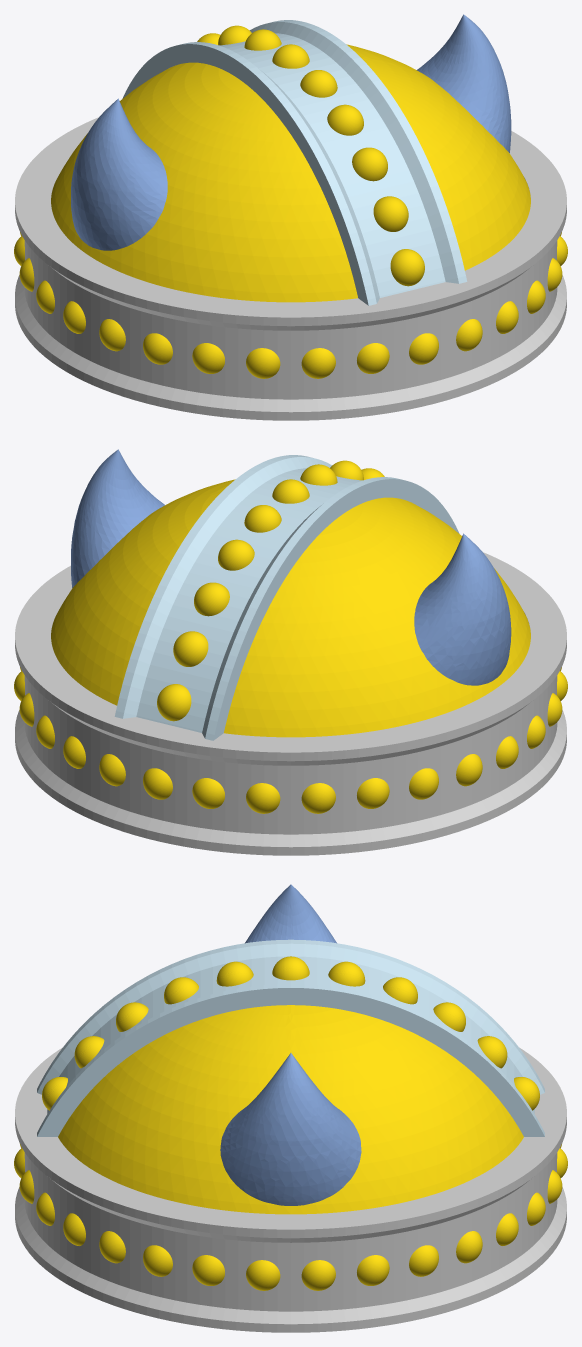
The model's file is Hat_Viking.glb.
3 renders of one model, top to bottom at view 1: azimuth 30°, elevation 25°; view 2: azimuth 150°, elevation 25°; view 3: azimuth 270°, elevation 25°, orthographic.
Visible parts, largest first — view 1: Node2, Node4, Node1, Node3; view 2: Node2, Node4, Node1, Node3; view 3: Node2, Node4, Node1, Node3.
Boxes of the visible parts, x1,y1,x2,y2 form: Node2: (14, 25, 567, 378); Node4: (15, 117, 566, 420); Node1: (122, 20, 467, 305); Node3: (71, 14, 511, 250); Node2: (14, 460, 567, 813); Node4: (15, 552, 566, 855); Node1: (114, 455, 459, 740); Node3: (71, 449, 511, 685); Node2: (14, 956, 567, 1290); Node4: (15, 1047, 566, 1332); Node1: (37, 939, 544, 1136); Node3: (220, 884, 361, 1205).
Bounding box in the file's own units: 58.2 × 30 × 58.4.
